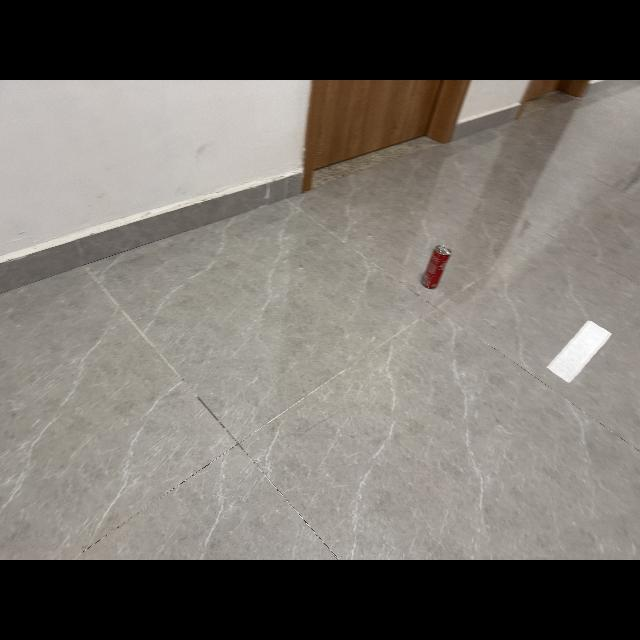Cola: (418, 239, 454, 291)
